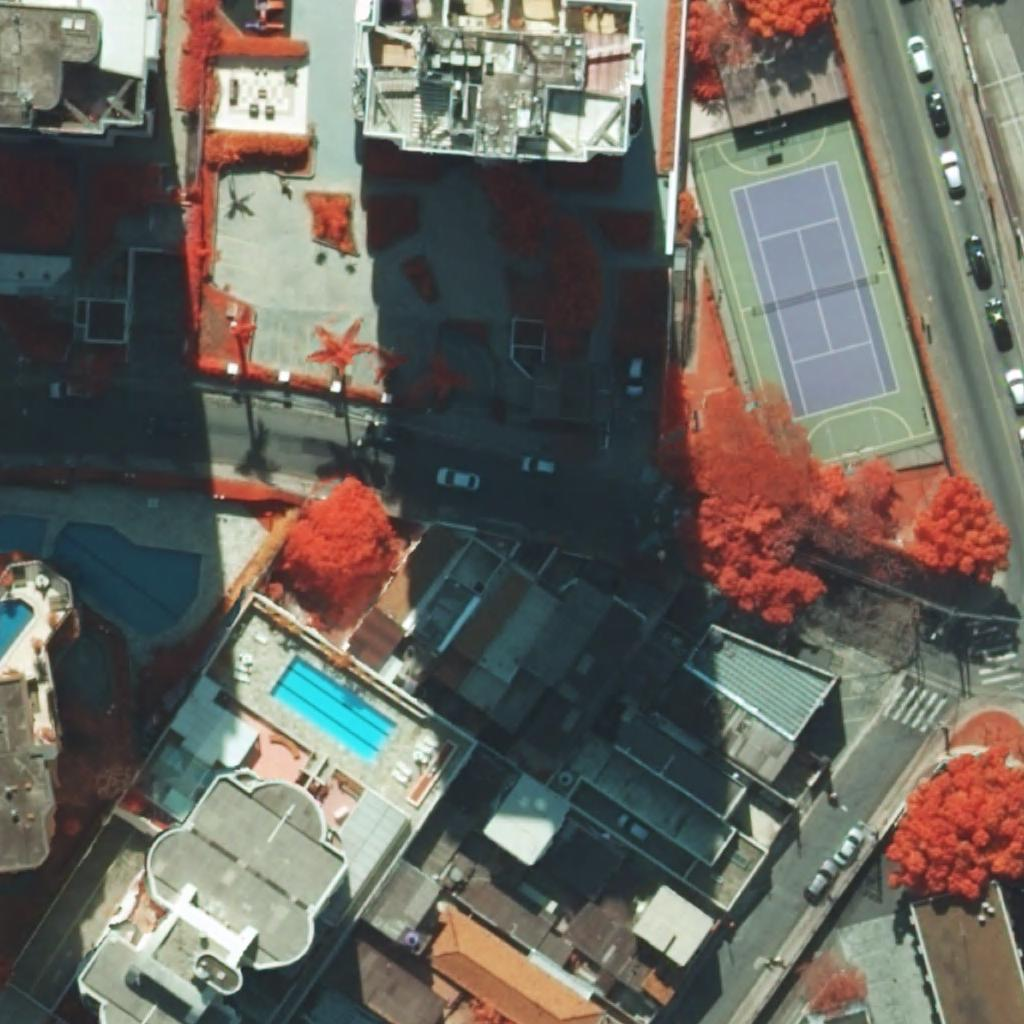pool: (54, 522, 202, 636), (269, 655, 398, 762), (0, 598, 35, 661), (0, 513, 49, 557)
